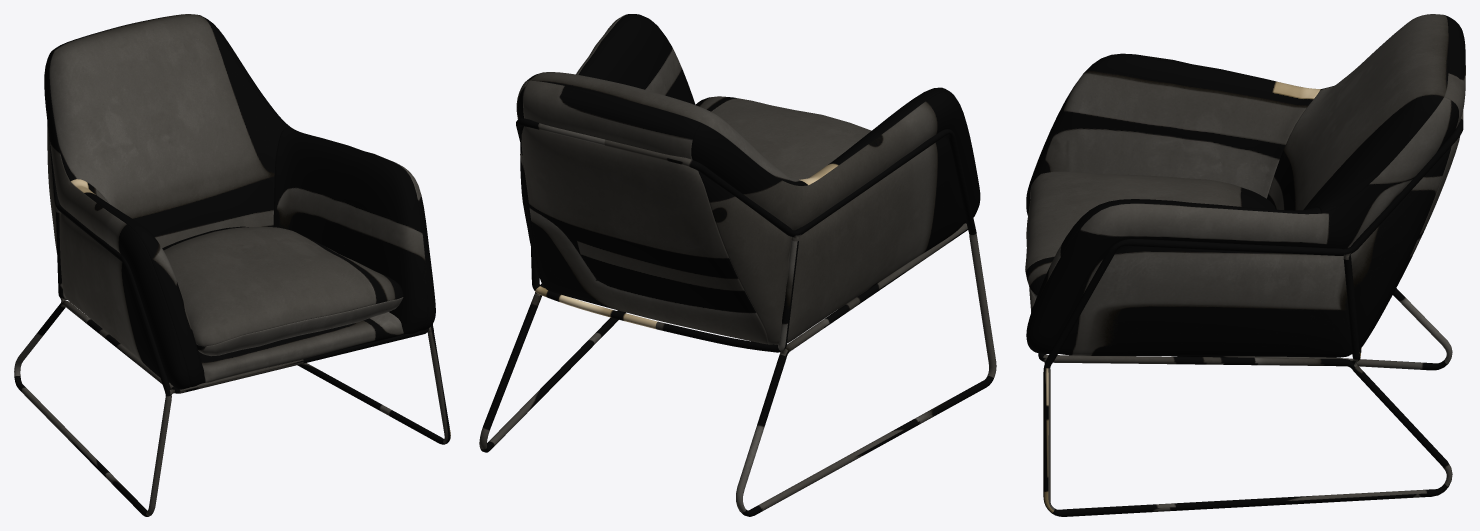
The model's file is frameRed.gltf.
The picture shows the model from 3 angles, left to right: view 1: azimuth 30°, elevation 25°; view 2: azimuth 150°, elevation 25°; view 3: azimuth 270°, elevation 25°; orthographic projection. The views are drawn at different scales.
Visible parts, largest first — view 1: VELVET, BRASS; view 2: VELVET, BRASS; view 3: VELVET, BRASS.
Part boxes in pixels (x1,y1,x2,y2): VELVET: [44, 14, 435, 389]; BRASS: [14, 136, 450, 516]; VELVET: [516, 14, 980, 344]; BRASS: [479, 118, 996, 516]; VELVET: [1025, 14, 1465, 357]; BRASS: [1038, 111, 1463, 516].
Size of what is drawn, in the model's own units: 78.96 by 83.45 by 86.24.
